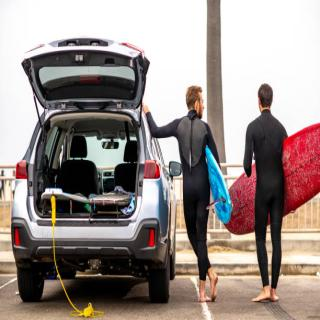Normal_vehicle: (18, 42, 172, 302)
